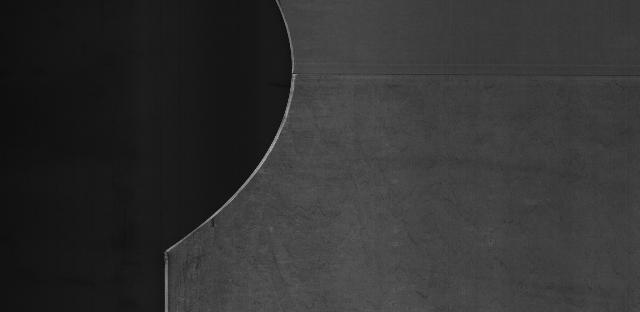welding_line: (272, 56, 640, 89)
